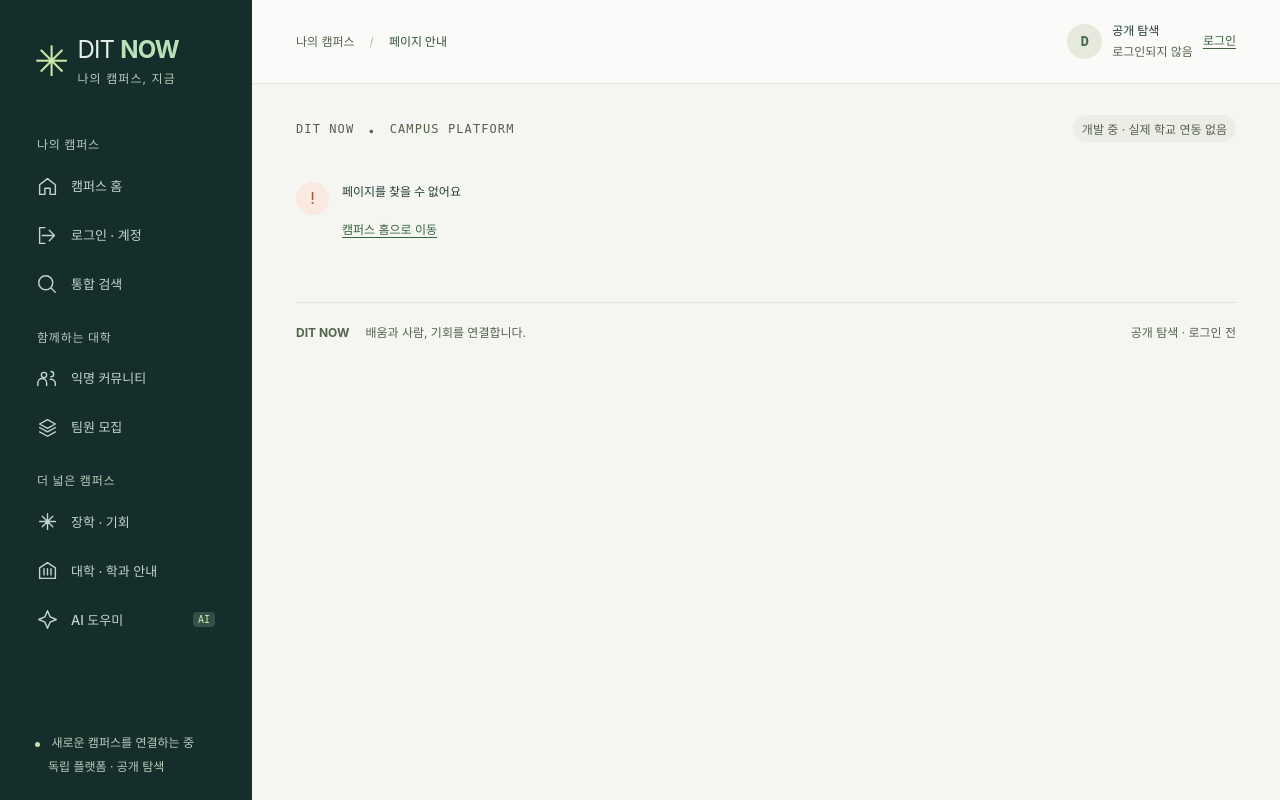
Test: integrated campus shell › honors browser back navigation and handles unknown pages
The image size is (1280, 800).
Expected: the text "페이지를 찾을 수 없어요" is shown, 342,182 -> 461,201
Click the button "캠퍼스 홈으로 이동" at (390, 230), box 342,208 -> 437,252
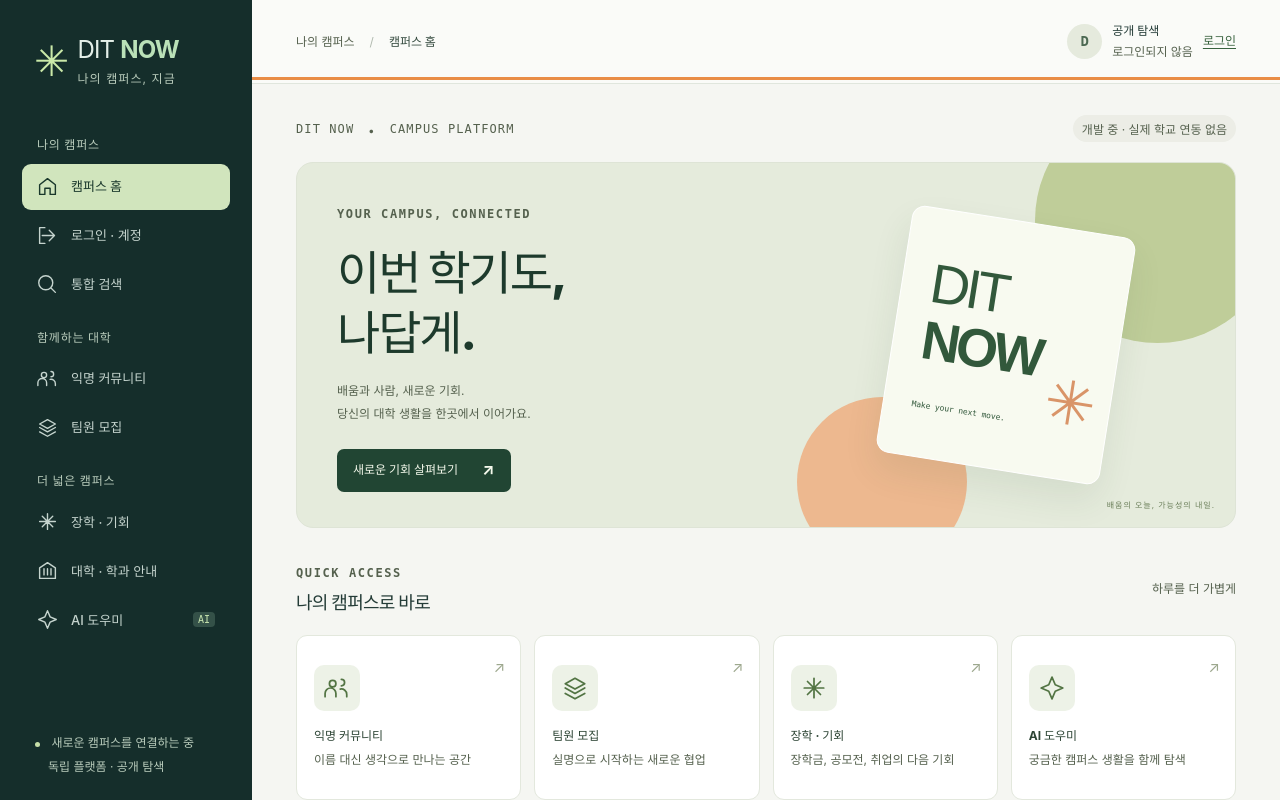
Result: the heading "이번 학기도,나답게." is shown at 337,244 -> 565,361
